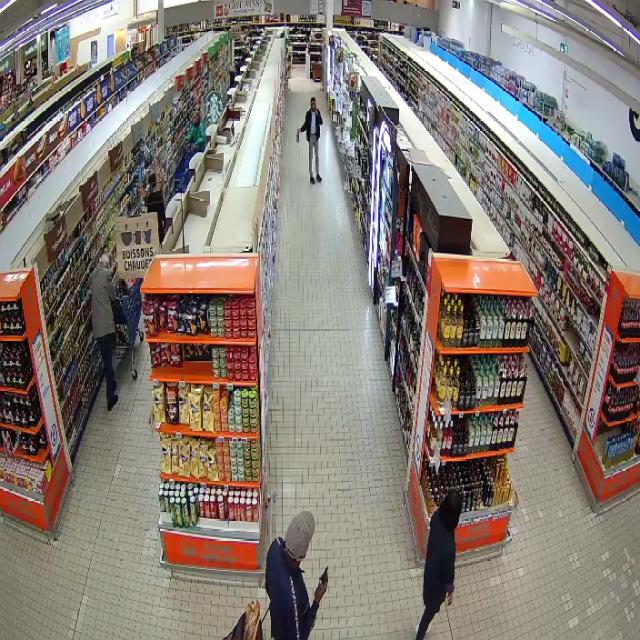article: (296, 133, 300, 144)
hands: (314, 583, 327, 604), (447, 593, 453, 605), (297, 129, 301, 133)
person: (265, 510, 326, 639), (415, 489, 462, 639), (297, 97, 322, 183)
